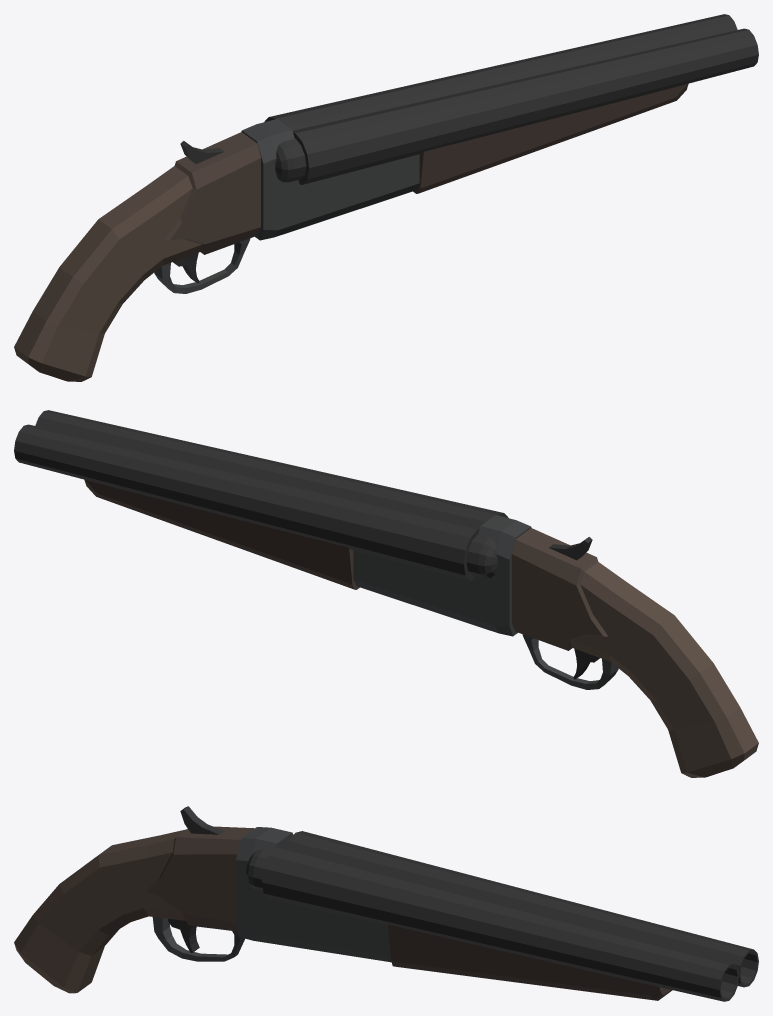
Rendered from quaternius-survival-shotgun-sawed-off.glb.
The picture shows the model from 3 angles, top to bottom: view 1: azimuth 30°, elevation 25°; view 2: azimuth 150°, elevation 25°; view 3: azimuth 330°, elevation 25°; orthographic projection.
Parts seen in each view (by area): view 1: Shotgun_SawedOff; view 2: Shotgun_SawedOff; view 3: Shotgun_SawedOff.
Part boxes in pixels (x1,y1,x2,y2): Shotgun_SawedOff: (14,14,758,381); Shotgun_SawedOff: (14,410,758,777); Shotgun_SawedOff: (14,806,758,1001).
Size of the model in its own units: 3.69 by 1.02 by 0.4223.
Materials: 1 (1 with a texture image).
